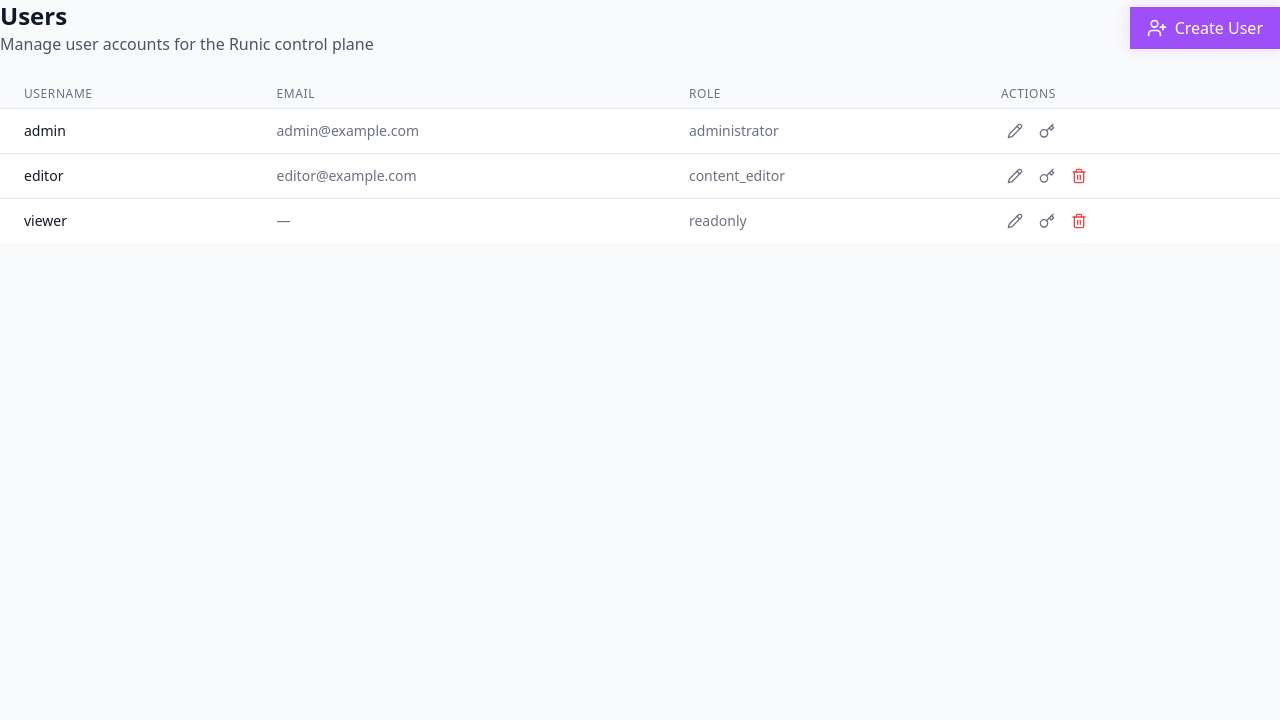
Users Page › shows delete confirmation modal
The image size is (1280, 720).
Expected: the text "viewer" is shown, [0,198,252,243]
Note: Find button that would be a delete (has Trash2 icon)
What coordinates should you click on to do the following:
click the 9th button
I would click on:
 (1079, 221)
Its box is [1065,207,1093,235].
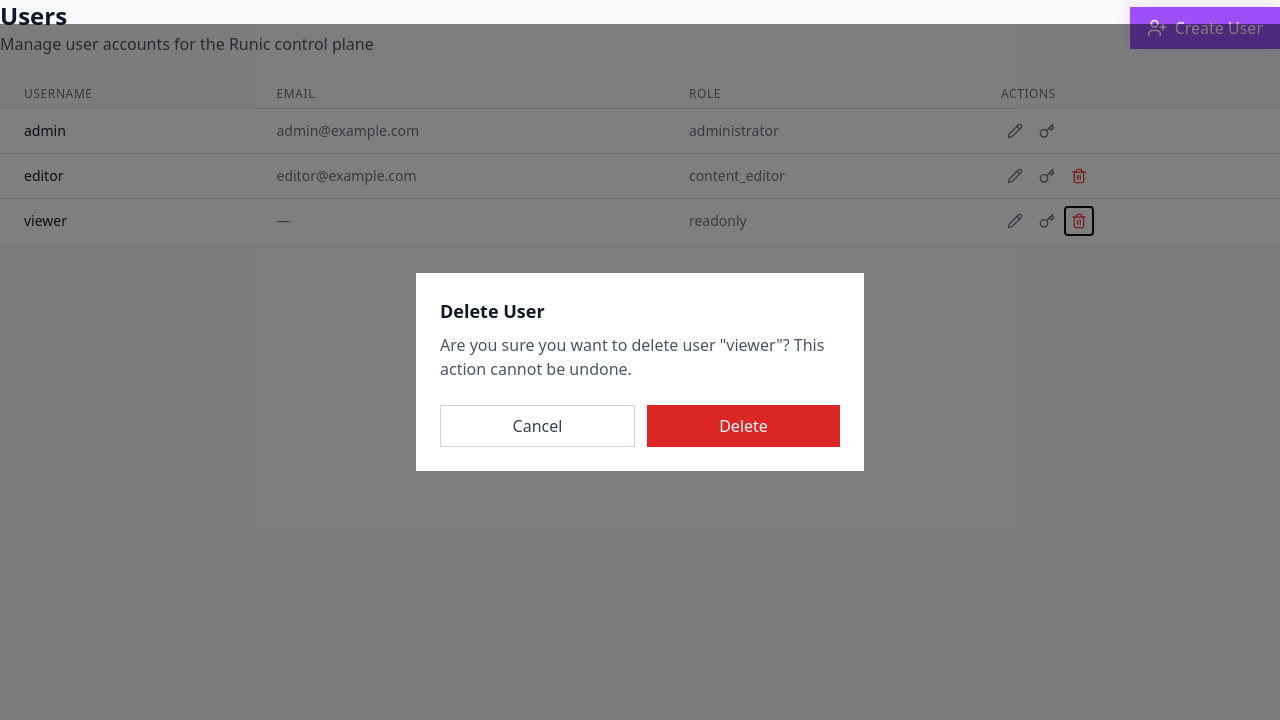
Expected: the heading "Delete User" is shown, [440,299,545,323]
